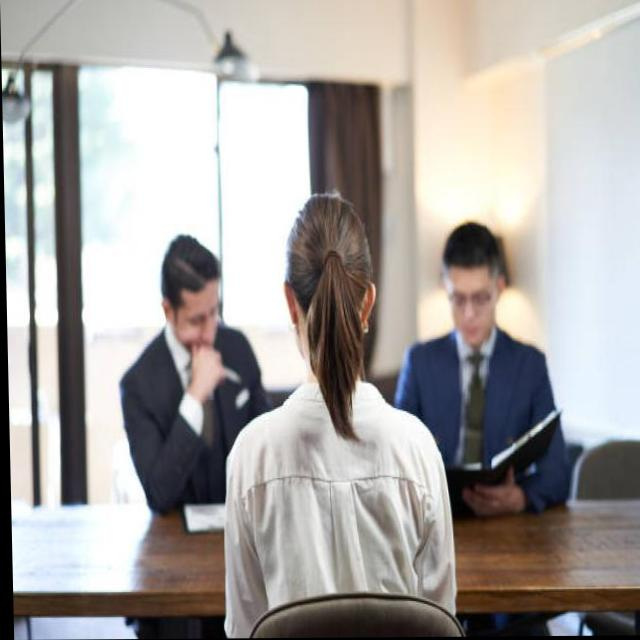no helmet: (265, 179, 412, 394)
